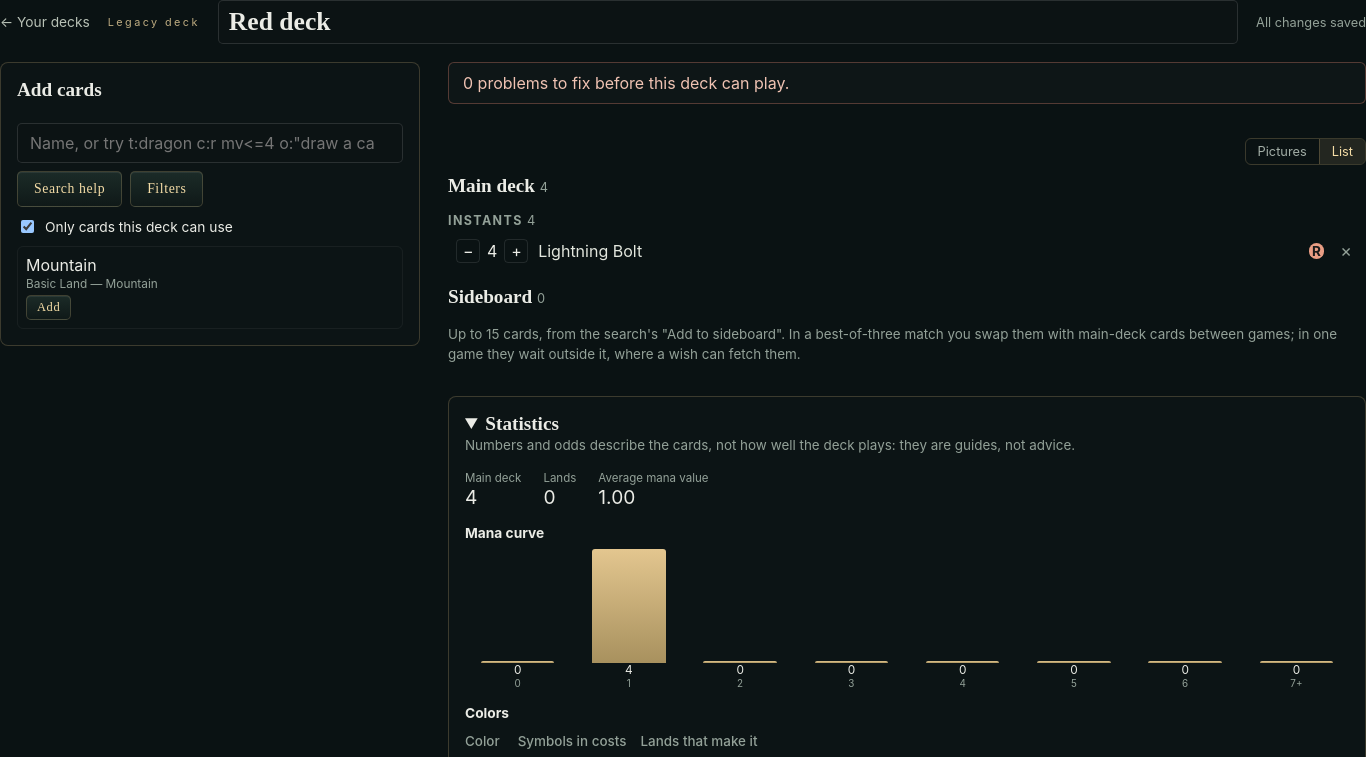
Test: the deck editor › takes the saved version without sending anything
This screenshot has width=1366, height=757.
Expected: the button "Mountain Basic Land — Mountain" is shown, [26,255,386,291]
Click the button "Add": coordinates (49, 308) [26,295,71,320]
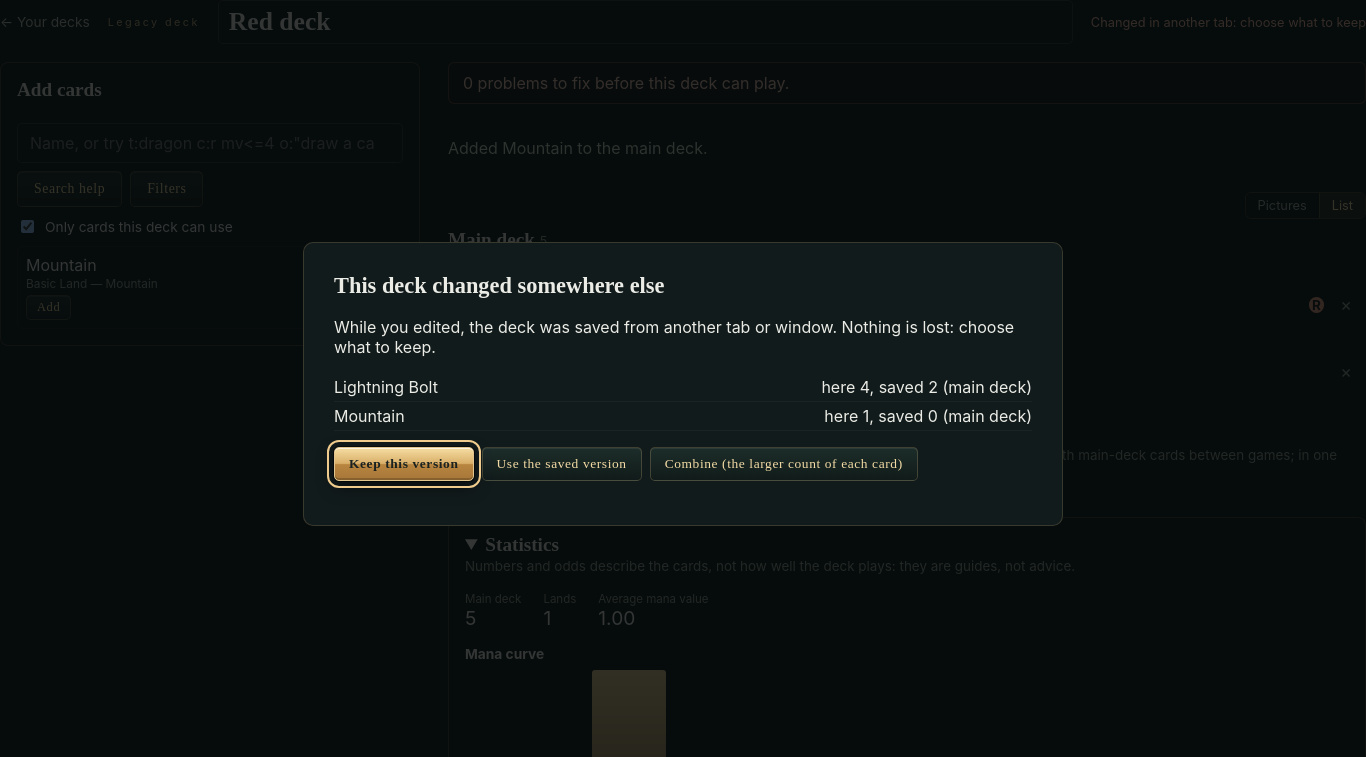
Click the button "Use the saved version": coordinates (562, 464) [482,447,642,481]
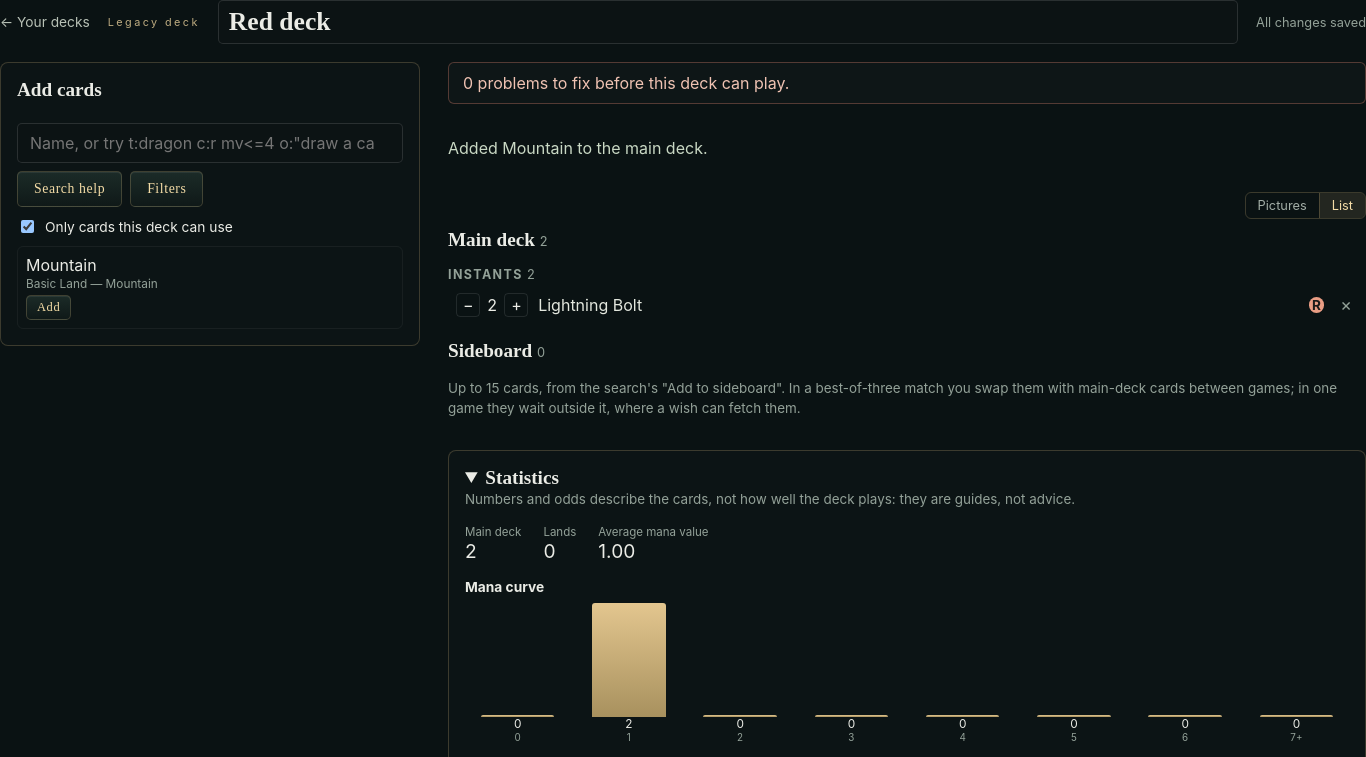
Expected: the text "All changes saved" is shown, [1256,14,1365,30]
Expected: the text named "2 copies" is shown, [487,295,497,315]
